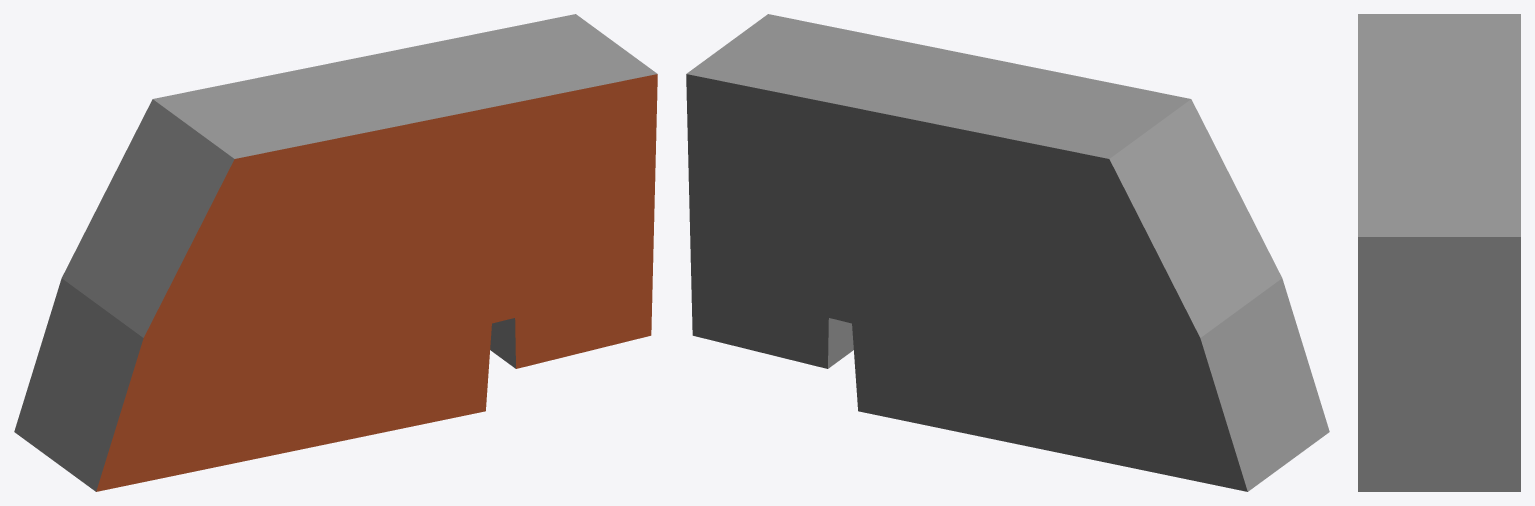
Rendered from construction_3553_assumed_A_Casa_h6m.obj.
The picture shows the model from 3 angles, left to right: view 1: azimuth 30°, elevation 25°; view 2: azimuth 150°, elevation 25°; view 3: azimuth 270°, elevation 25°; orthographic projection.
Visible parts, largest first — view 1: construction_3553_assumed_A_Casa; view 2: construction_3553_assumed_A_Casa; view 3: construction_3553_assumed_A_Casa.
Boxes of the visible parts, x1,y1,x2,y2 form: construction_3553_assumed_A_Casa: (14,14,657,491); construction_3553_assumed_A_Casa: (686,14,1329,491); construction_3553_assumed_A_Casa: (1358,14,1520,491).
Bounding box in the file's own units: 23.74 × 12.66 × 6.
